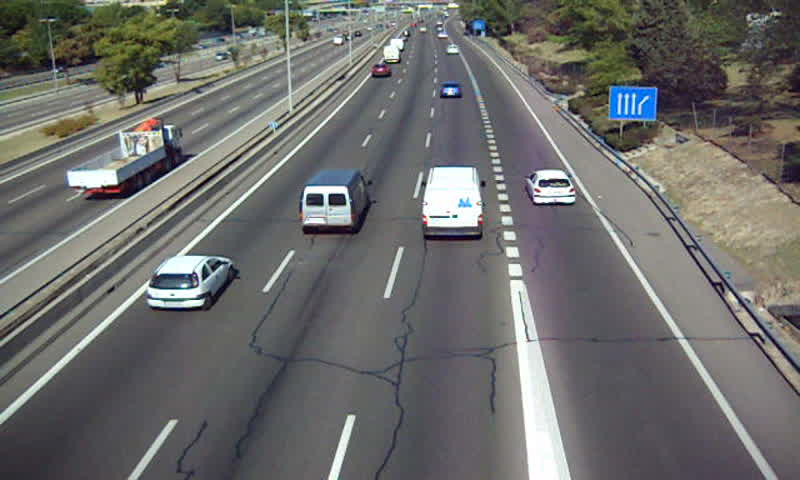car: (146, 255, 236, 309), (526, 170, 578, 204), (439, 82, 463, 98), (370, 64, 391, 79)
van: (422, 167, 483, 237), (300, 169, 368, 231), (383, 46, 400, 64)
